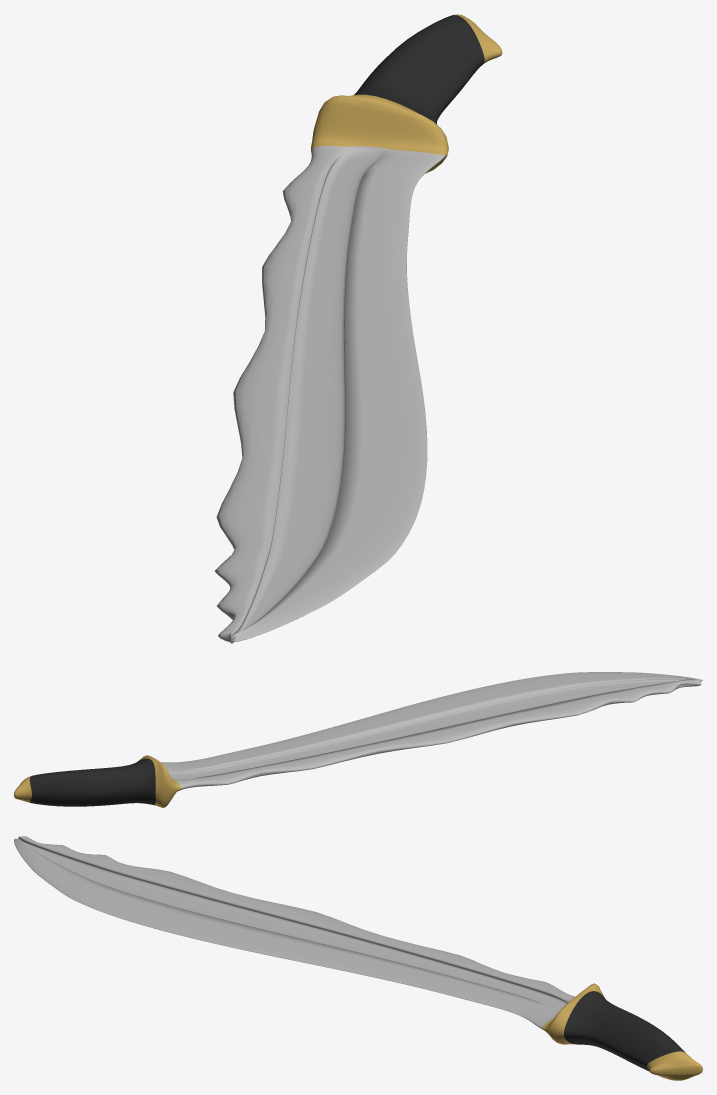
Rendered from Knife.fbx.
3 renders of one model, top to bottom at view 1: azimuth 30°, elevation 25°; view 2: azimuth 150°, elevation 25°; view 3: azimuth 270°, elevation 25°, orthographic. The views are drawn at different scales.
Visible parts, largest first — view 1: Плоскость; view 2: Плоскость; view 3: Плоскость.
Boxes of the visible parts, bbox=[...] form: Плоскость: bbox=[214, 14, 502, 643]; Плоскость: bbox=[14, 672, 702, 807]; Плоскость: bbox=[14, 836, 702, 1080].
Size of the model in its own units: 734 by 75.48 by 909.
